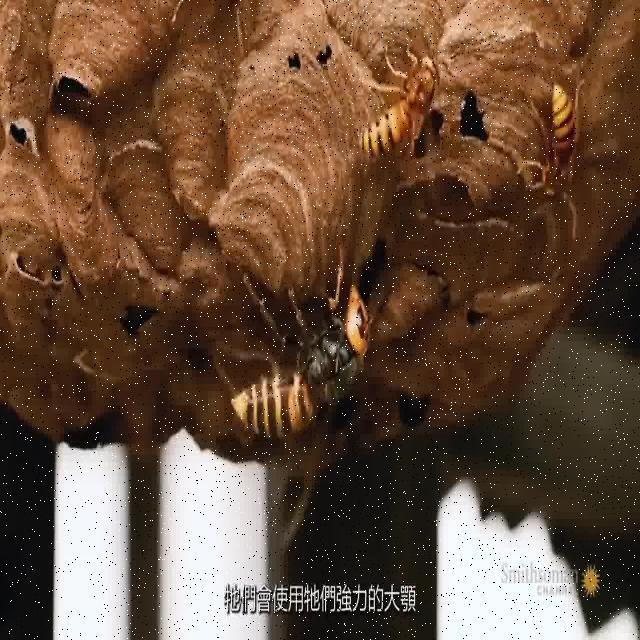Wasp: (232, 235, 380, 452)
